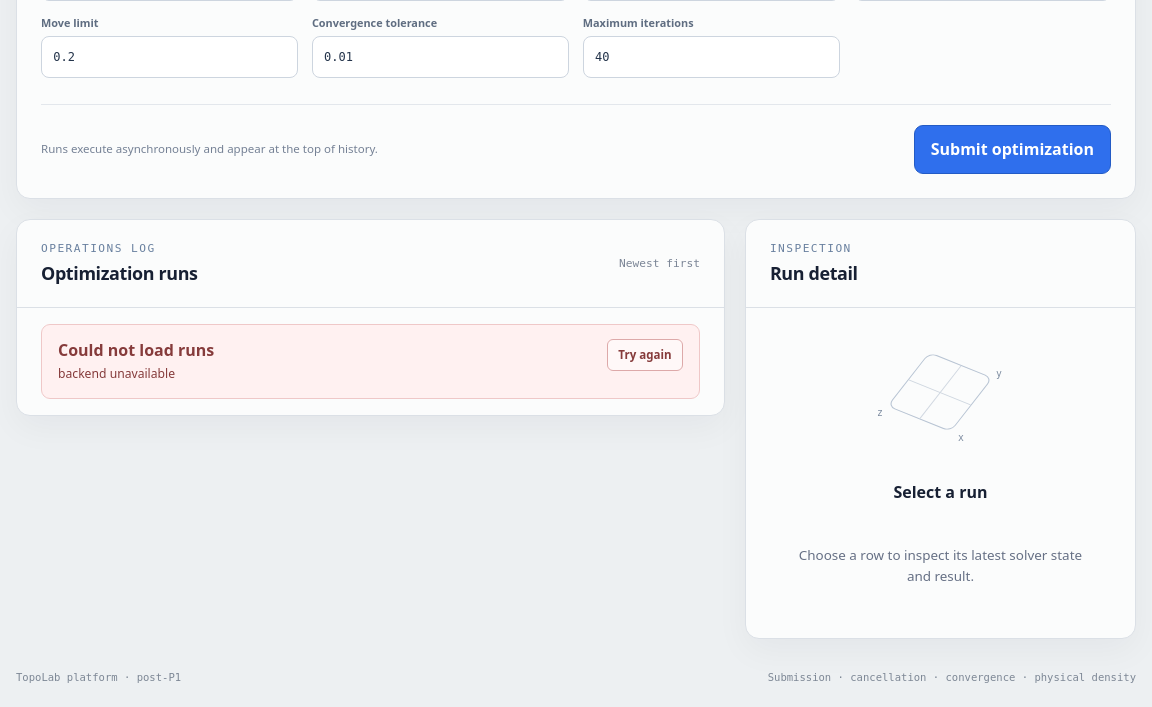
Test: App › shows a recoverable history error
(page scrolled)
Check: the text "Could not load runs" is shown, box [58, 339, 214, 361]
Check: the text "backend unavailable" is shown, box [58, 365, 175, 382]
Click the button "Try again" at (645, 355), box [607, 339, 683, 371]
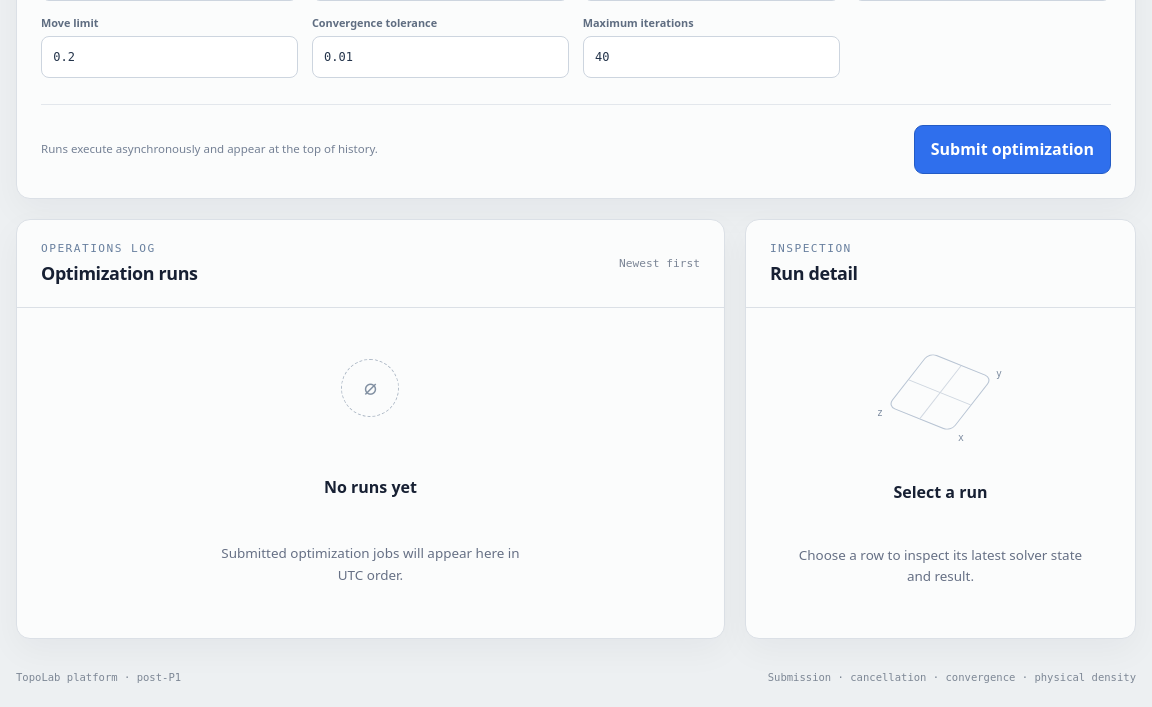
Check: the heading "No runs yet" is shown, box [324, 476, 417, 498]
